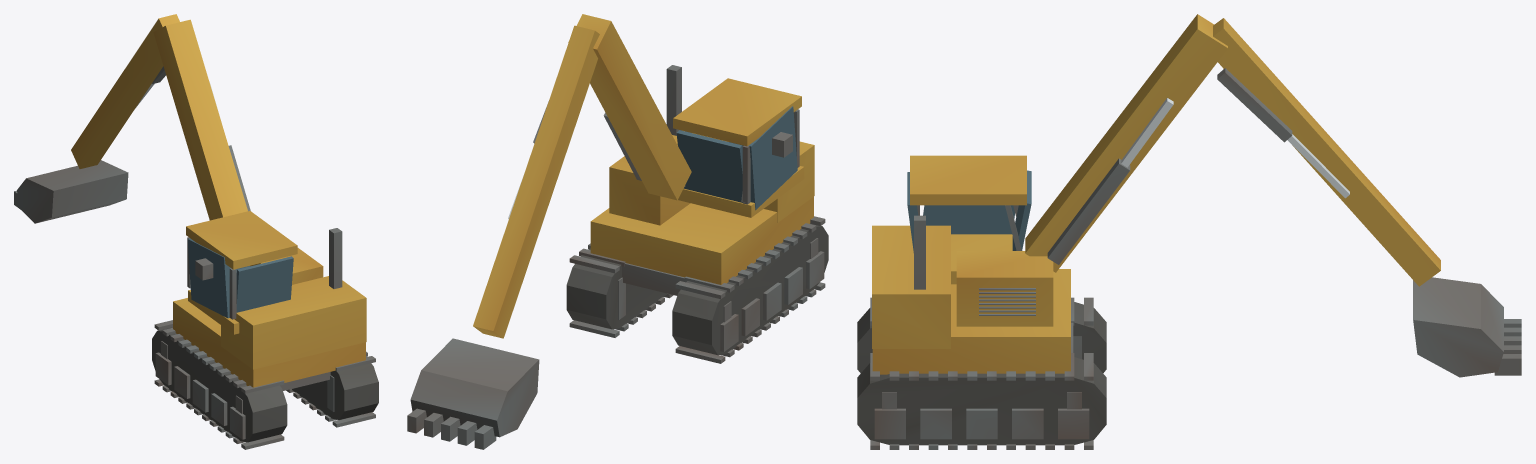
Rendered from rama2-excavator.gltf.
The picture shows the model from 3 angles, left to right: view 1: azimuth 30°, elevation 25°; view 2: azimuth 150°, elevation 25°; view 3: azimuth 270°, elevation 25°; orthographic projection. The views are drawn at different scales.
Visible parts, largest first — view 1: Rama II parked tracked excavator; view 2: Rama II parked tracked excavator; view 3: Rama II parked tracked excavator.
Part boxes in pixels (left/top/right/bottom): Rama II parked tracked excavator: left=14, top=14, right=378, bottom=449; Rama II parked tracked excavator: left=407, top=14, right=828, bottom=449; Rama II parked tracked excavator: left=857, top=14, right=1521, bottom=449.
Bounding box in the file's own units: 2.34 × 5.06 × 7.83.
